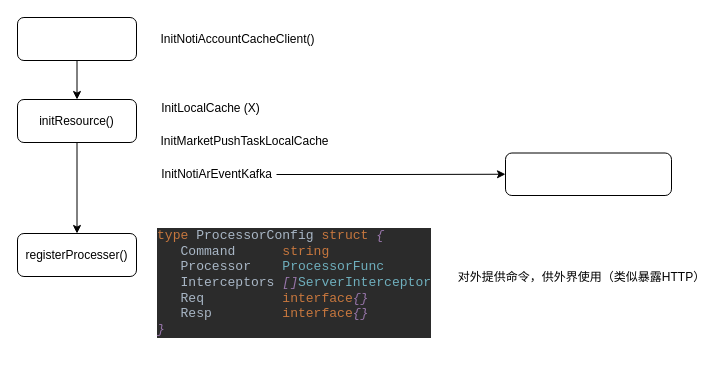
The diagram is 727 pixels wide and 369 high, and some of its shapes have lost their labels. The shapes that lost their labels are listed below. From the top down, each one's centre as x and y in pixels, then its label:
At point (76, 38): "initClient()".
At point (588, 174): "getTaskFromLocalCache()".
